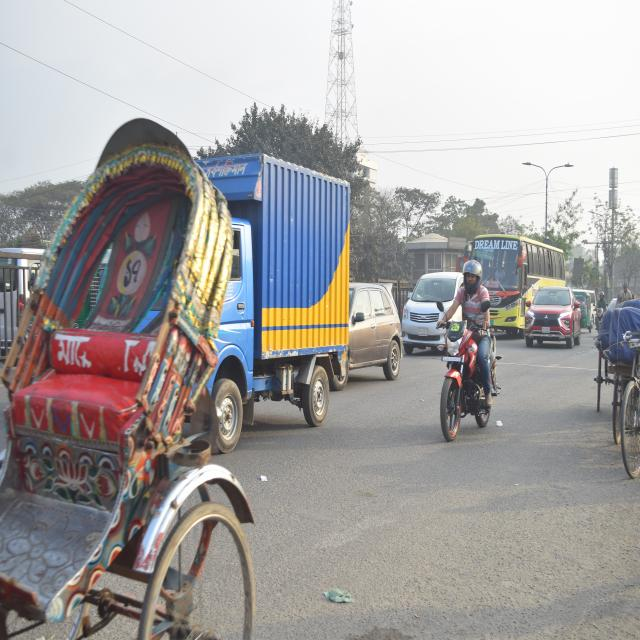bus: (470, 234, 578, 322)
car: (346, 272, 404, 383), (401, 265, 459, 359), (520, 279, 585, 355)
motorbike: (427, 293, 503, 448), (591, 294, 606, 336)
pickup-van: (172, 140, 354, 460)
